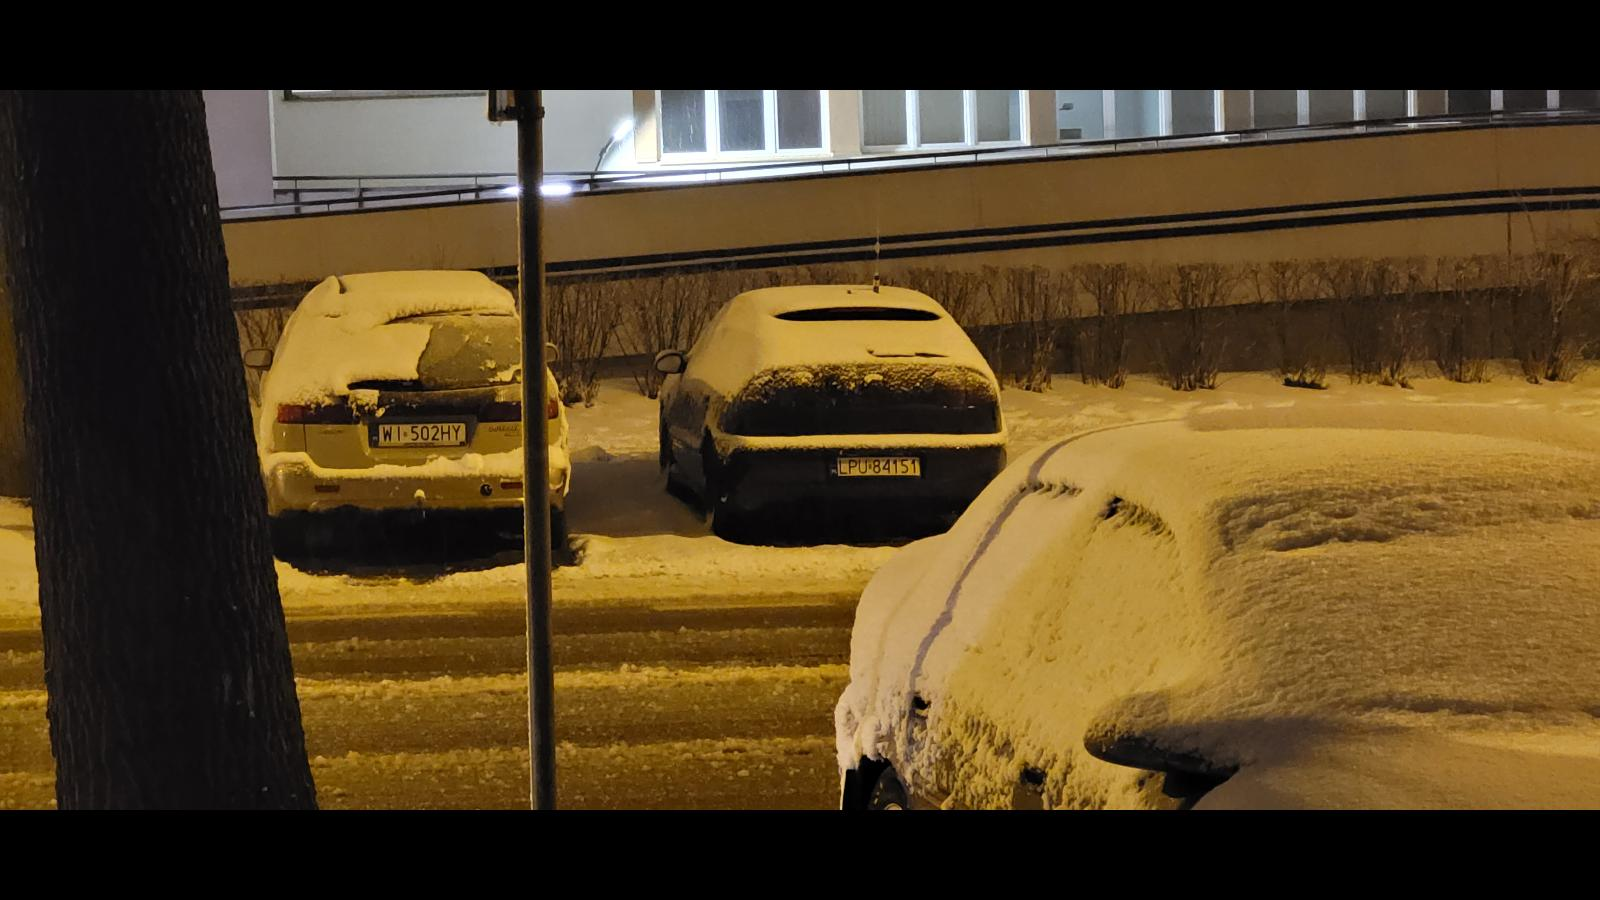plates: (369, 422, 467, 446), (830, 457, 922, 477)
